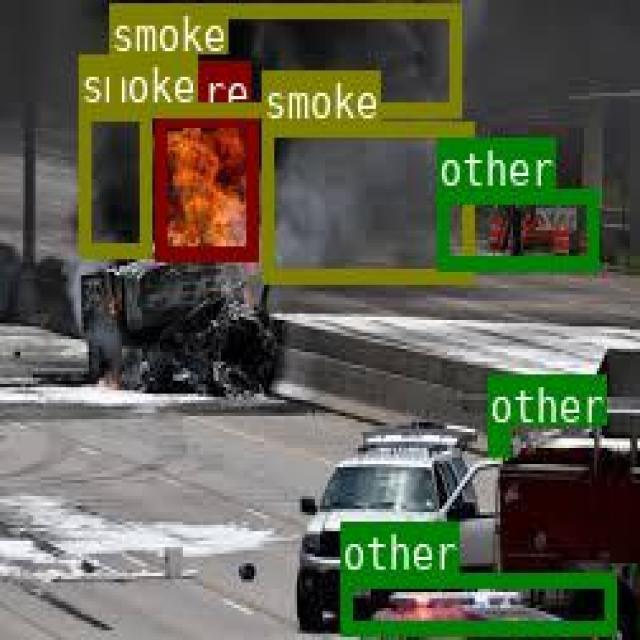fire: (155, 109, 257, 257)
smoke: (109, 3, 458, 113), (261, 120, 471, 282), (77, 106, 148, 255)
